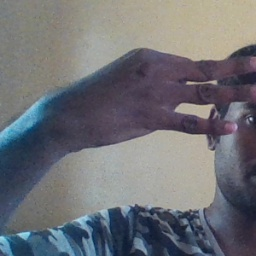K: (61, 47, 256, 139)
